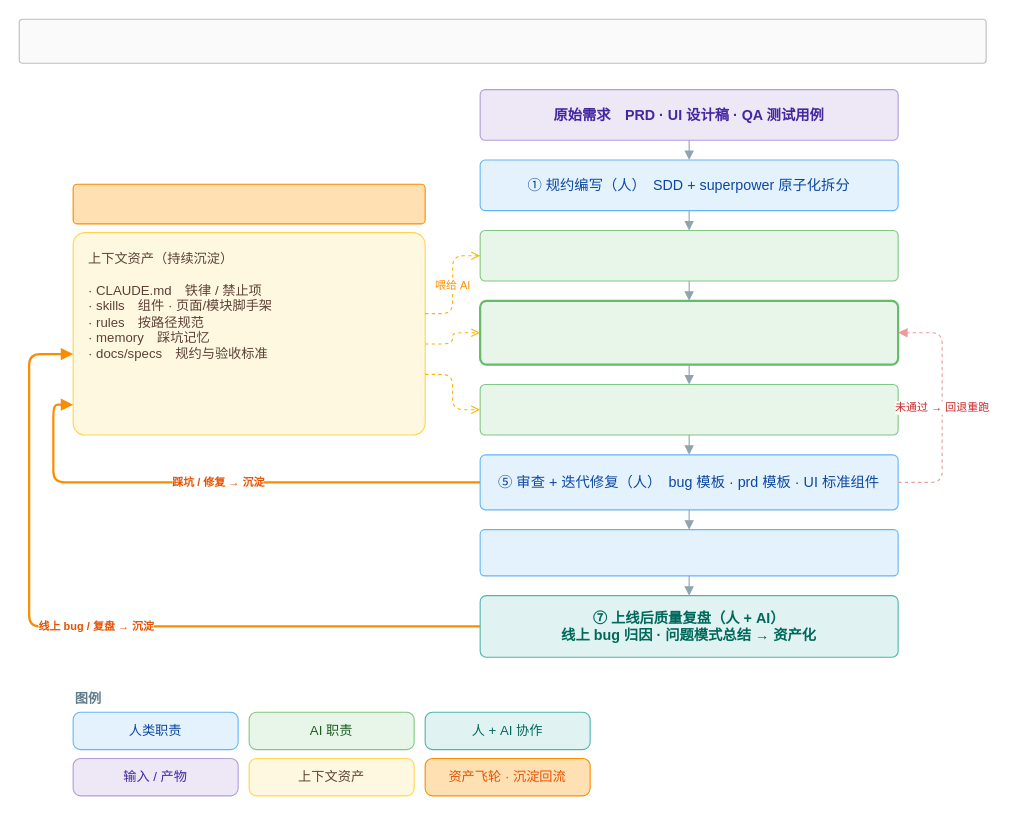
The diagram is 1009 pixels wide and 815 high, and some of its shapes have lost their labels. Here are the shapes that lost their labels. From the top down, the centre of each, then its label:
At (502,40): "一个需求的完整 AI 交付链路（SDD 规约驱动 · 人机分工 · 资产飞轮）".
At (248,203): "资产飞轮：越用越聪明".
At (688,255): "② 生成规约文档（AI） prd-spec · api-spec · architecture · test-spec".
At (689,332): "③ 生成业务代码 + TDD 测试（AI） 模块代码与单测 / 用例同步产出（测试即规约）".
At (688,409): "④ 生成质量报告（AI） Code Review · 单测覆盖率 · E2E 覆盖率".
At (688,552): "⑥ 验收上线（人）".
